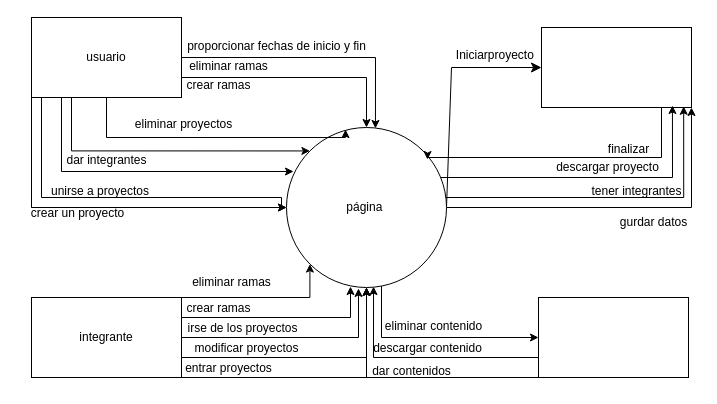
Image size: 717x404. Some labels were removed from this diagram. The box of each missing label's shape, as (x1, y1, x2, y2) in pixels:
contenido: (538, 296, 688, 378)
proyecto: (540, 26, 692, 108)
